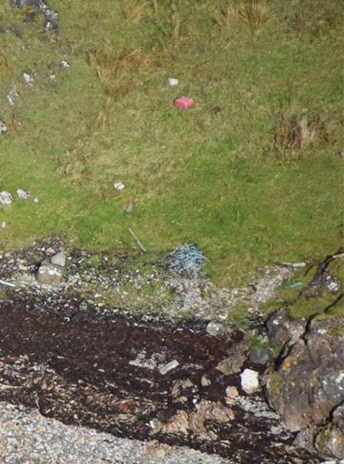net: (168, 238, 211, 274)
white_in_green: (220, 352, 279, 403), (158, 76, 216, 124)
